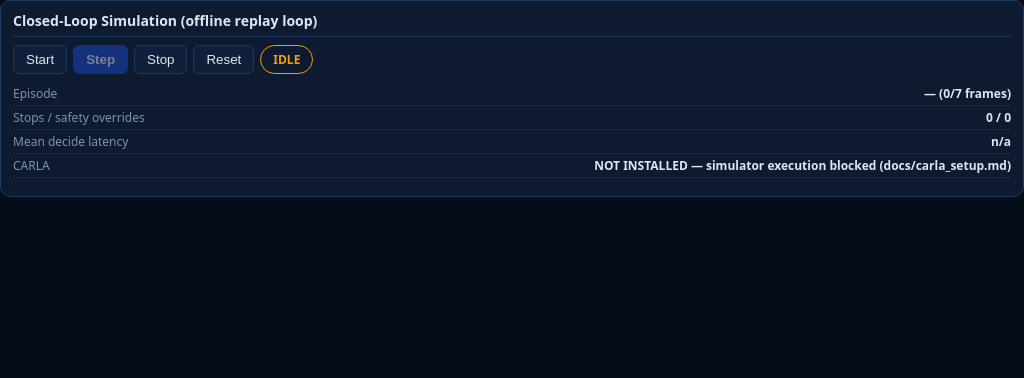
Test: Methodology flow + RL panels › SimulationPanel reports CARLA blocked and steps honestly
Expected: the text "NOT INSTALLED" is shown, [594, 157, 1011, 174]
Click the button "Start".
click(40, 60)  # box [13, 45, 67, 74]
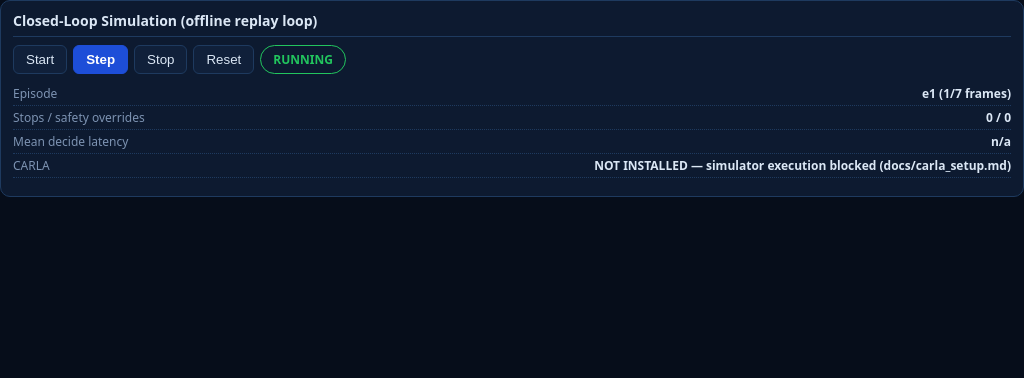
Expected: the text "RUNNING" is shown, [260, 45, 346, 74]
Click the button "Step".
click(101, 60)  # box [73, 45, 128, 74]
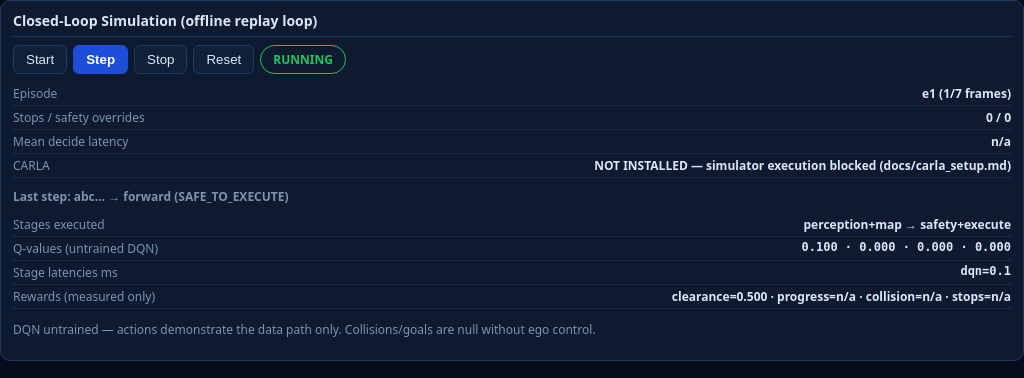
Expected: the heading "Last step: abc… → forward (SAFE_TO_EXECUTE)" is shown, [13, 188, 289, 205]
